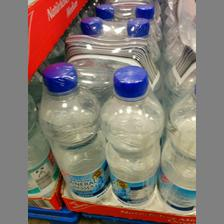Wasser: (37, 62, 108, 202), (100, 62, 162, 204), (158, 73, 194, 210)
